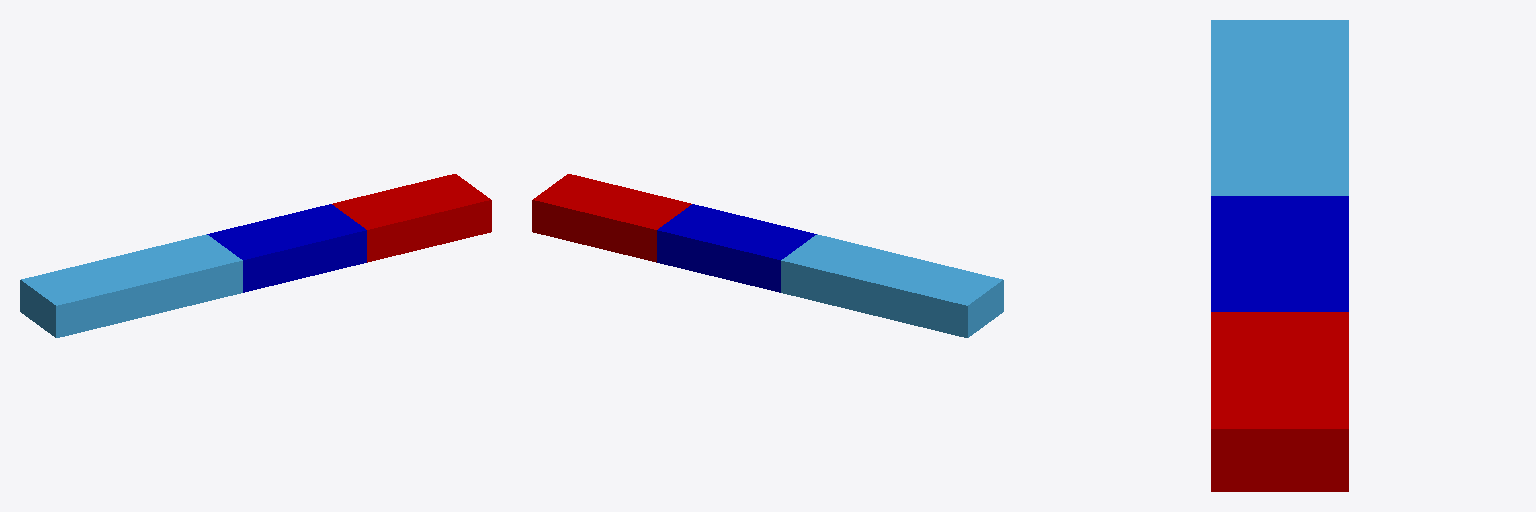
The robot description file, URDF, robot "Chain":
<?xml version="1.0"?>
<robot name="Chain">
  <link name="baselink"/>
  <link name="root">
    <visual>
      <geometry>
        <box size="0.3 .10 0.05"/>
      </geometry>
    </visual>
    <inertial>
      <mass value="1"/>
      <inertia ixx="0.4" ixy="0.0" ixz="0.0" iyy="0.4" iyz="0.0" izz="0.2"/>
    </inertial>
  </link>
  <link name="link1">
    <visual>
			<origin rpy="0 0 0" xyz="0.05 0.0 0"/>
      <geometry>
        <box size="0.1 .10 0.05"/>
      </geometry>
      <material name="blue">
        <color rgba="0 0 0.8 1"/>
      </material>
    </visual>
    <inertial>
			<origin rpy="0 0 0" xyz="0.05 0.0 0"/>
      <mass value="1"/>
      <inertia ixx="0.4" ixy="0.0" ixz="0.0" iyy="0.4" iyz="0.0" izz="0.2"/>
    </inertial>
  </link>
  <link name="link2">
    <visual>
			<origin rpy="0 0 0" xyz="0.05 0.0 0"/>
      <geometry>
        <box size="0.1 .10 0.05"/>
      </geometry>
      <material name="blue">
        <color rgba="0 0 0.8 1"/>
      </material>
    </visual>
    <inertial>
			<origin rpy="0 0 0" xyz="0.05 0.0 0"/>
      <mass value="1"/>
      <inertia ixx="0.4" ixy="0.0" ixz="0.0" iyy="0.4" iyz="0.0" izz="0.2"/>
    </inertial>
  </link>
  <link name="link3">
    <visual>
			<origin rpy="0 0 0" xyz="0.05 0.0 0"/>
      <geometry>
        <box size="0.1 .10 0.05"/>
      </geometry>
      <material name="red">
        <color rgba="0.8 0 0 1"/>
      </material>
    </visual>
    <inertial>
			<origin rpy="0 0 0" xyz="0.05 0.0 0"/>
      <mass value="1"/>
      <inertia ixx="0.4" ixy="0.0" ixz="0.0" iyy="0.4" iyz="0.0" izz="0.2"/>
    </inertial>
  </link>
  <link name="link4">
    <visual>
			<origin rpy="0 0 0" xyz="0.05 0.0 0"/>
      <geometry>
        <box size="0.1 .10 0.05"/>
      </geometry>
      <material name="red">
        <color rgba="0.8 0 0 1"/>
      </material>
    </visual>
    <inertial>
			<origin rpy="0 0 0" xyz="0.05 0.0 0"/>
      <mass value="1"/>
      <inertia ixx="0.4" ixy="0.0" ixz="0.0" iyy="0.4" iyz="0.0" izz="0.2"/>
    </inertial>
  </link>
  <!-- Joints -->
  <joint name="basetoroot" type="fixed">
    <parent link="baselink"/>
    <child link="root"/>
    <origin rpy="0 0 0" xyz="0 0 0"/>
  </joint>
  <joint name="roottolink1" type="revolute">
    <parent link="root"/>
    <child link="link1"/>
    <origin rpy="0 0 0" xyz="0.15 0.0 0"/>
    <axis xyz="0 -1 0"/>
		<limit effort="30" velocity="1.0" lower="-2.2" upper="0.7" />
  </joint>
  <joint name="link1tolink2" type="revolute">
    <parent link="link1"/>
    <child link="link2"/>
    <origin rpy="0 0 0" xyz="0.1 0.0 0"/>
    <axis xyz="0 -1 0"/>
		<limit effort="30" velocity="1.0" lower="-2.2" upper="0.7" />
  </joint>
 <joint name="link2tolink3" type="revolute">
    <parent link="link2"/>
    <child link="link3"/>
    <origin rpy="0 0 0" xyz="0.1 0.0 0"/>
    <axis xyz="0 -1 0"/>
		<limit effort="30" velocity="1.0" lower="-2.2" upper="0.7" />
  </joint>
 <joint name="link3tolink4" type="revolute">
    <parent link="link3"/>
    <child link="link4"/>
    <origin rpy="0 0 0" xyz="0.1 0.0 0"/>
    <axis xyz="0 -1 0"/>
		<limit effort="30" velocity="1.0" lower="-2.2" upper="0.7" />
  </joint>
</robot>

--- What the picture shows (computed from the rendered views, not written in the file) ---
Views: 3 orthographic renders of the robot side by side, from view 1: azimuth 30°, elevation 25°; view 2: azimuth 150°, elevation 25°; view 3: azimuth 270°, elevation 25°.
Model Chain with 6 links and 5 joints (4 revolute, 1 fixed), rooted at baselink, posed all joints at 0.
Visible links, largest first — view 1: root, link4, link2, link1, link3; view 2: root, link4, link2, link1, link3; view 3: root, link4, link3, link1, link2.
Link boxes in pixels (<box>): root: <box>20,234,242,337</box>; link4: <box>394,174,491,246</box>; link2: <box>270,204,366,277</box>; link1: <box>207,219,304,292</box>; link3: <box>332,189,428,262</box>; root: <box>781,234,1003,337</box>; link4: <box>532,174,629,246</box>; link2: <box>657,204,753,277</box>; link1: <box>719,219,816,292</box>; link3: <box>595,189,691,262</box>; root: <box>1211,20,1348,195</box>; link4: <box>1211,371,1348,491</box>; link3: <box>1211,312,1348,370</box>; link1: <box>1211,196,1348,253</box>; link2: <box>1211,254,1348,311</box>.
Size in the robot's own frame: 0.7 by 0.1 by 0.05 metres.
Geometry: primitives only (box / cylinder / sphere), no mesh files.